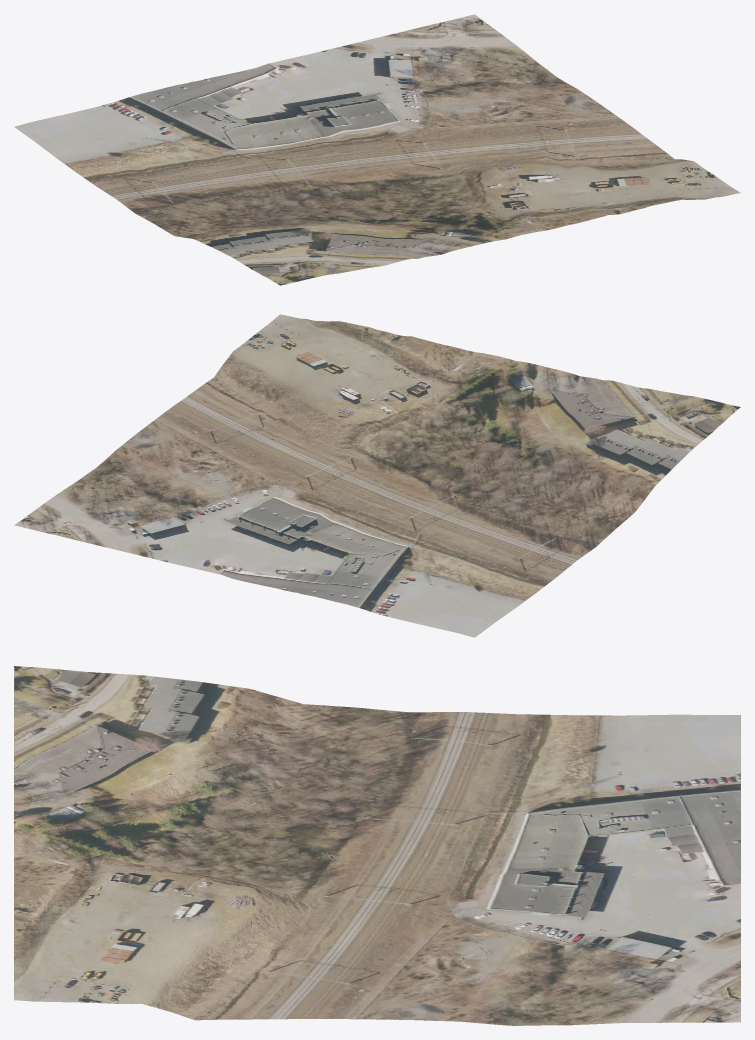
File: CM_Terrain_24491482_6819794.fbx
The picture shows the model from 3 angles, top to bottom: view 1: azimuth 30°, elevation 25°; view 2: azimuth 150°, elevation 25°; view 3: azimuth 270°, elevation 25°; orthographic projection. The views are drawn at different scales.
Visible parts, largest first — view 1: CM_Terrain_24491482_6819794_LOD0; view 2: CM_Terrain_24491482_6819794_LOD0; view 3: CM_Terrain_24491482_6819794_LOD0.
Part boxes in pixels (x1,y1,x2,y2): CM_Terrain_24491482_6819794_LOD0: (14,14,740,285); CM_Terrain_24491482_6819794_LOD0: (14,314,740,637); CM_Terrain_24491482_6819794_LOD0: (14,666,740,1025).
Size of what is drawn, in the model's own units: 205 by 16.89 by 205.
